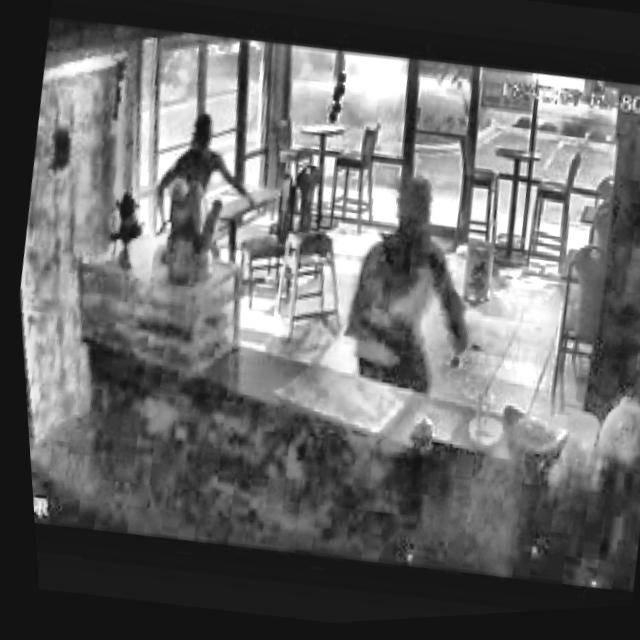burglary: (316, 166, 497, 423), (128, 96, 274, 283)
